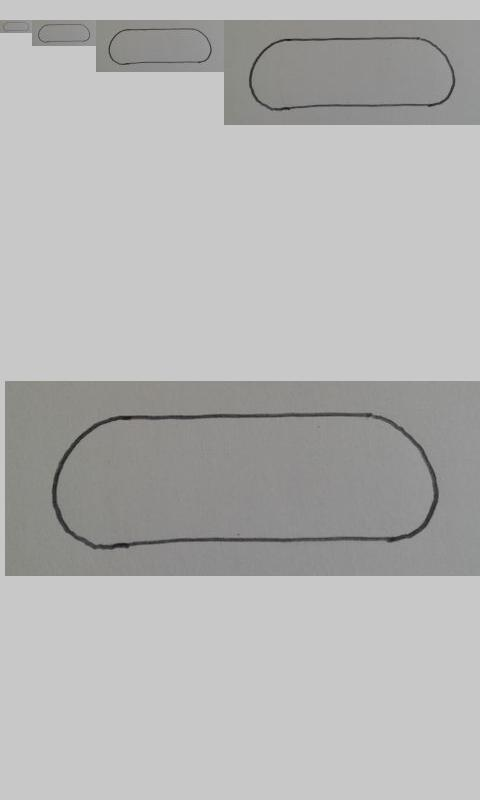chip: (51, 411, 440, 550), (249, 36, 456, 113), (108, 28, 212, 65), (37, 23, 91, 43), (2, 21, 30, 32)
